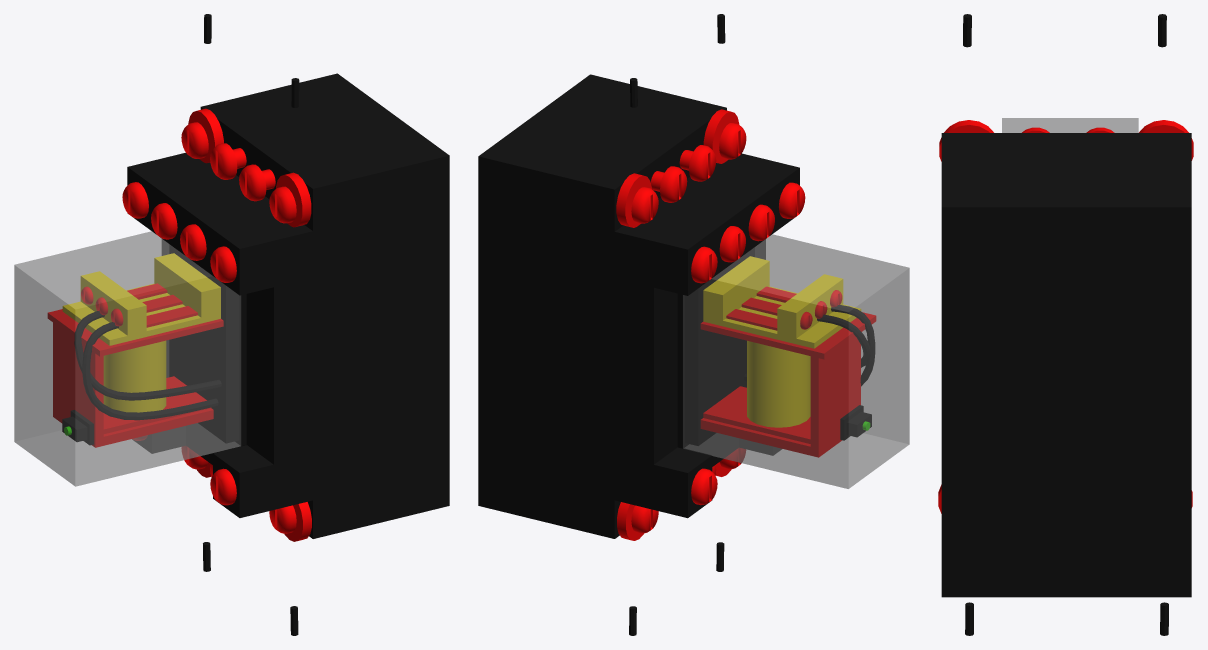
File: plc4_1.FBX
3 views of the same model, side by side, from view 1: azimuth 30°, elevation 25°; view 2: azimuth 150°, elevation 25°; view 3: azimuth 270°, elevation 25° (orthographic). The views are drawn at different scales.
Visible parts, largest first — view 1: Box15163, Object5119; view 2: Box15163, Object5119; view 3: Box15163, Object5119.
Boxes of the visible parts, left/top/right/bottom form: Box15163: left=47, top=14, right=449, bottom=635; Object5119: left=14, top=231, right=240, bottom=486; Box15163: left=478, top=14, right=876, bottom=635; Object5119: left=683, top=234, right=909, bottom=488; Box15163: left=938, top=14, right=1193, bottom=635; Object5119: left=1002, top=118, right=1138, bottom=132.
Bounding box in the file's own units: 6.66 × 10.19 × 3.81.
